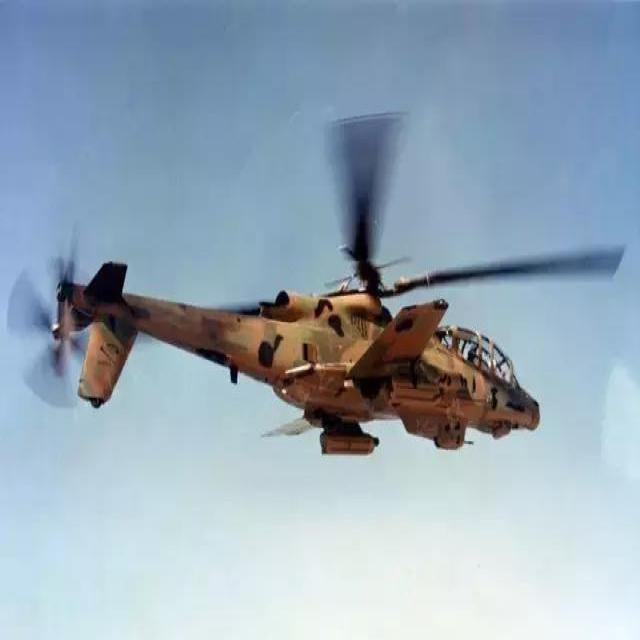MIL_HELO: (3, 104, 639, 466)
